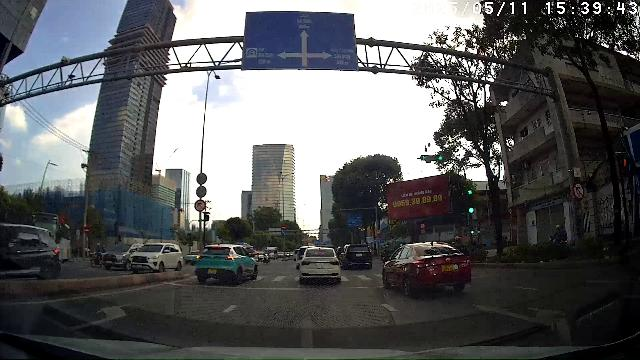103b-cam-oto-re-phai: (571, 181, 585, 200), (194, 199, 206, 212)
